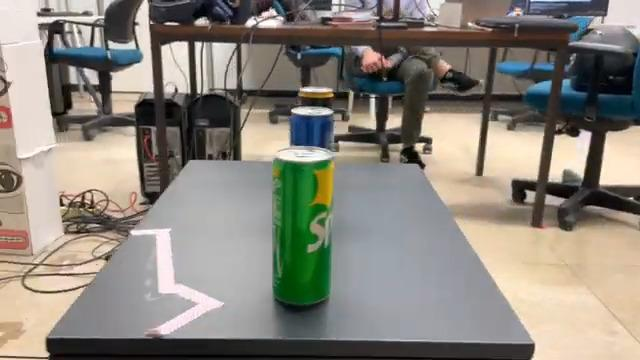Pepsi: (288, 103, 338, 157), (295, 85, 337, 114)
Sprite: (267, 142, 337, 314)
